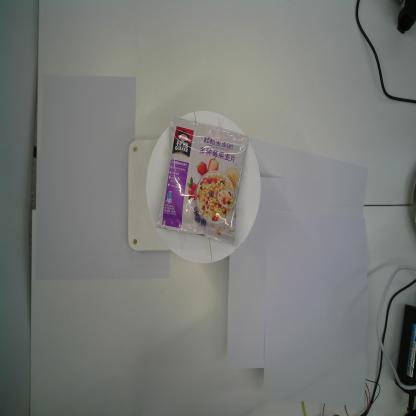Instant Drink: (156, 116, 249, 246)
